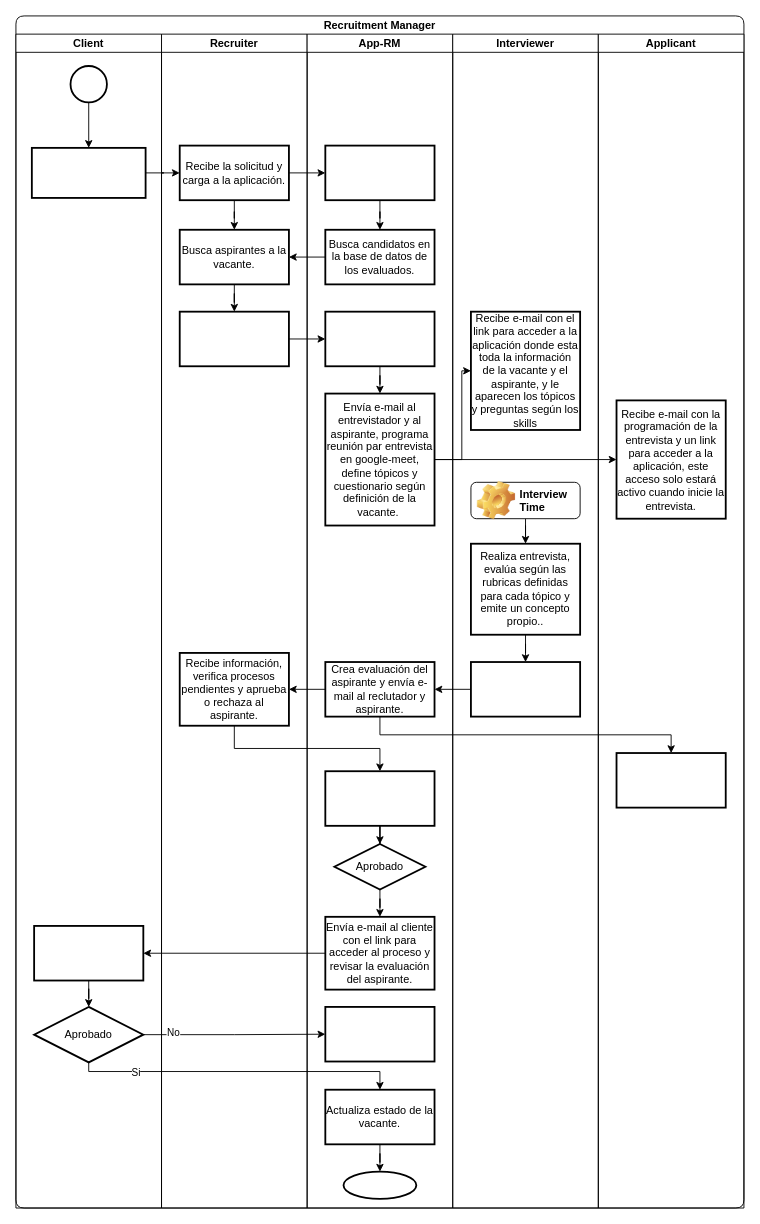
Some shapes in this 760 by 1224 pixel diagram are drawn without their labels. Here are the shapes that lost their labels. From the top down, the centre of each, then its label:
At pixel 88 172: "Request one or more developers".
At pixel 379 172: "Crea nueva Vacante".
At pixel 233 338: "Encuentra aspirantes y carga a la aplicacion.".
At pixel 379 338: "Crea el aspirante y lo carga a la vacante".
At pixel 525 689: "Carga evaluación a la aplicación y cierra la entrevista.".
At pixel 379 798: "Actualiza el estado del Aspirante".
At pixel 670 780: "Recibe notificación del proceso de evaluación.".
At pixel 88 953: "Recibe información del aspirante, valida la evaluación y acepta o rechaza.".
At pixel 379 1034: "Actualiza estado del aspirante.".
At pixel 379 1184: "Fin".
